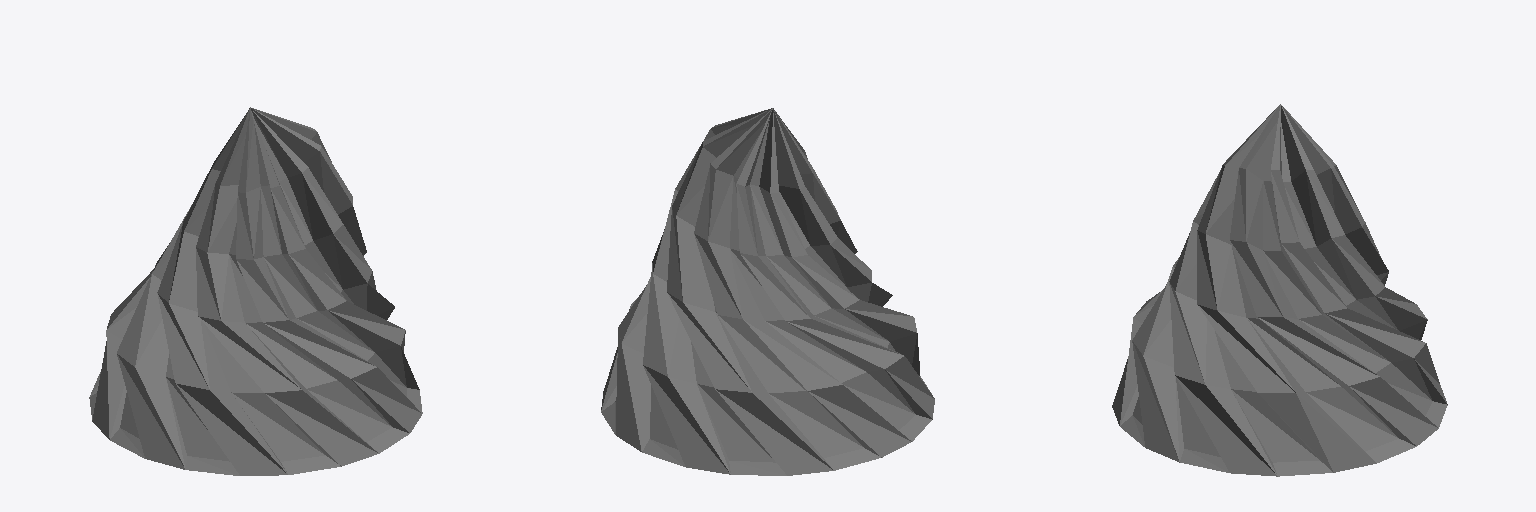
The model's file is sundae_roof.obj.
3 renders of one model, left to right at view 1: azimuth 30°, elevation 25°; view 2: azimuth 150°, elevation 25°; view 3: azimuth 270°, elevation 25°, orthographic.
Parts seen in each view (by area): view 1: pCone26_pCone26; view 2: pCone26_pCone26; view 3: pCone26_pCone26.
Boxes of the visible parts, box(x1,y1,x2,y2) form: pCone26_pCone26: box(89, 107, 422, 475); pCone26_pCone26: box(601, 108, 934, 475); pCone26_pCone26: box(1112, 104, 1447, 476).
Bounding box in the file's own units: 3.12 × 3.07 × 3.12.